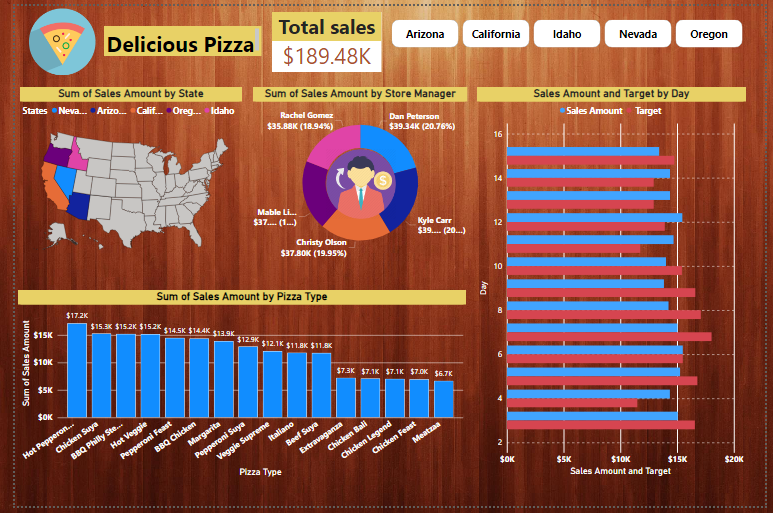

The page's visual inventory and layout, read from the dashboard file:
{"tool":"powerbi","page":{"name":"Delicious Pizza Report","canvas":[1500,1000],"ordinal":0},"visuals":[{"type":"image","box":[10.1,0,168.5,142.6],"z":0},{"type":"textbox","box":[178.6,40.3,315.4,60.5],"z":1},{"type":"card","title":"Total sales","fields":{"Values":["Sales.Sales Amount"]},"box":[514.1,13,218.9,119.5],"z":2},{"type":"shapeMap","fields":{"Category":["Branch Data.State"],"Value":["Sales.Sales Amount"],"Series":["Branch Data.State"]},"box":[10.1,162.7,443.5,358.6],"z":3},{"type":"donutChart","fields":{"Category":["Branch Data.Store Manager"],"Y":["Sales.Sales Amount"]},"box":[475.2,162.7,429.1,358.6],"z":4},{"type":"image","box":[606,280,172,152],"z":5},{"type":"advancedSlicerVisual","fields":{"Values":["Branch Data.State"]},"box":[748,22,714,130],"z":6},{"type":"clusteredBarChart","title":" Sales Amount and  Target by Day","fields":{"Y":["Sales.Sales Amount","Daily Target.Target"],"Category":["Daily Target.Day.Variation.Date Hierarchy.Day"]},"box":[924,162,538,784],"z":7},{"type":"clusteredColumnChart","fields":{"Category":["Sales.Pizza Type"],"Y":["Sales.Sales Amount"]},"box":[6,568,896,378],"z":8}]}

Visuals, with their boxes in screenshot pixels (x1, y1, x2, y2), scaled from the page's 1500x1000 canvas onto the 773x513 screenshot:
image: (5,0,92,73)
textbox: (92,21,255,52)
"Total sales" card: (265,7,378,68)
shapeMap - Branch Data.State x Sales.Sales Amount: (5,83,234,267)
donutChart - Branch Data.Store Manager x Sales.Sales Amount: (245,83,466,267)
image: (312,144,401,222)
advancedSlicerVisual - Branch Data.State: (385,11,753,78)
" Sales Amount and  Target by Day" clusteredBarChart: (476,83,753,485)
clusteredColumnChart - Sales.Pizza Type x Sales.Sales Amount: (3,291,465,485)
